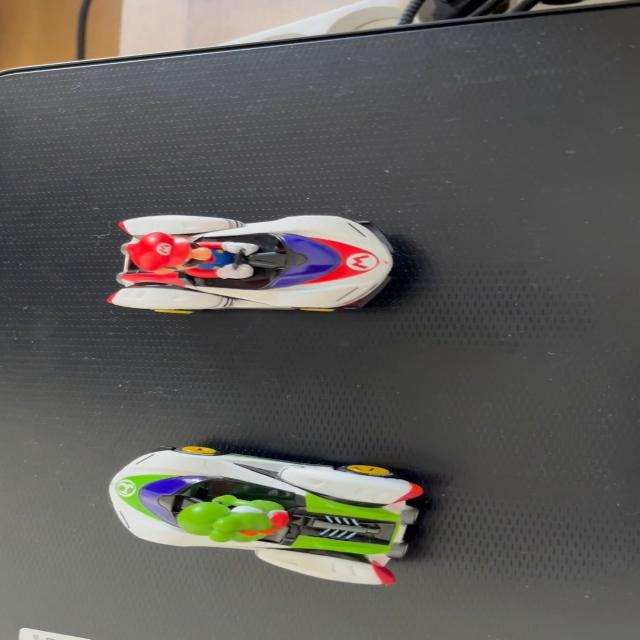mario: (105, 206, 409, 320)
yoshi: (86, 432, 449, 596)
